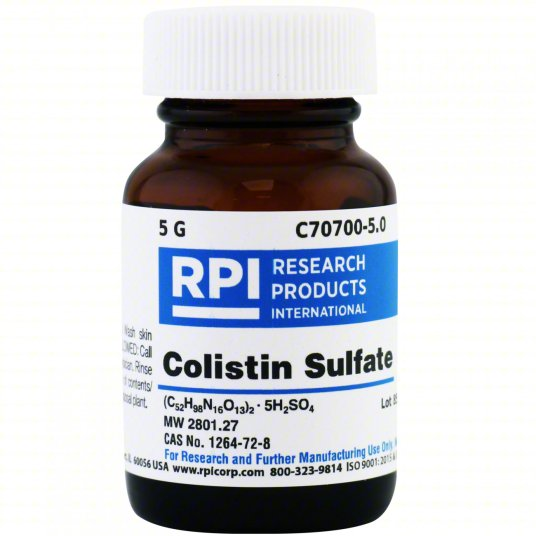Medicine: (104, 4, 417, 536)
